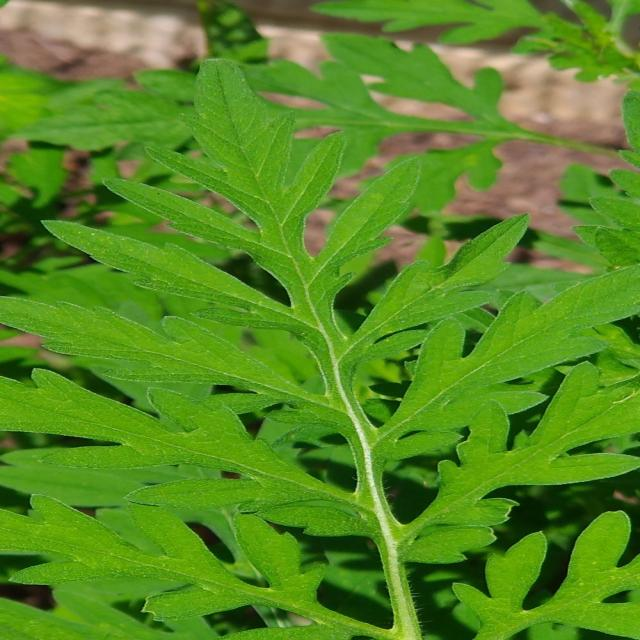ambrosia: (95, 94, 554, 592)
